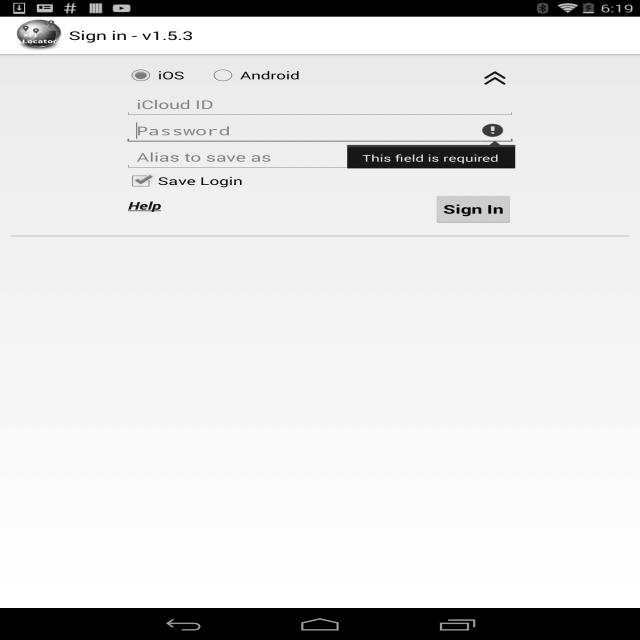Button: (433, 193, 514, 225)
CheckBox: (124, 170, 242, 192)
EditText: (124, 91, 516, 118), (124, 118, 516, 144), (124, 144, 516, 170)
ImageView: (14, 19, 64, 52), (474, 65, 516, 91)
RadioButton: (206, 65, 300, 86), (124, 65, 184, 86)
TextView: (69, 27, 193, 43), (128, 198, 161, 213)
